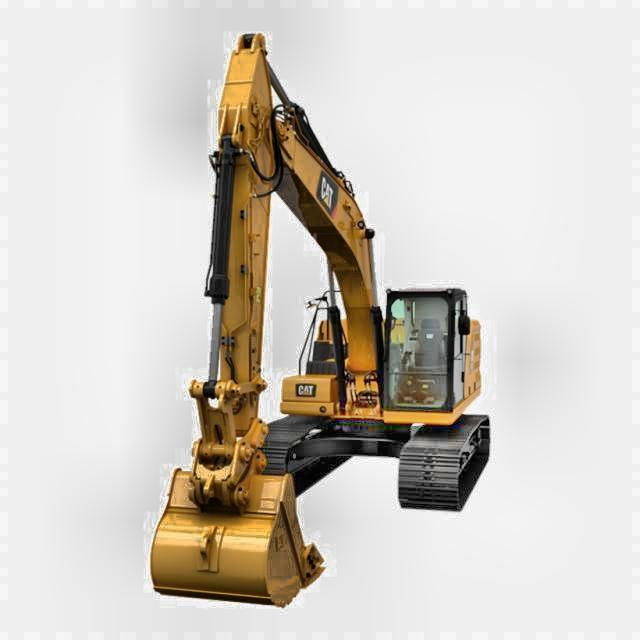excavator: (146, 22, 494, 608)
